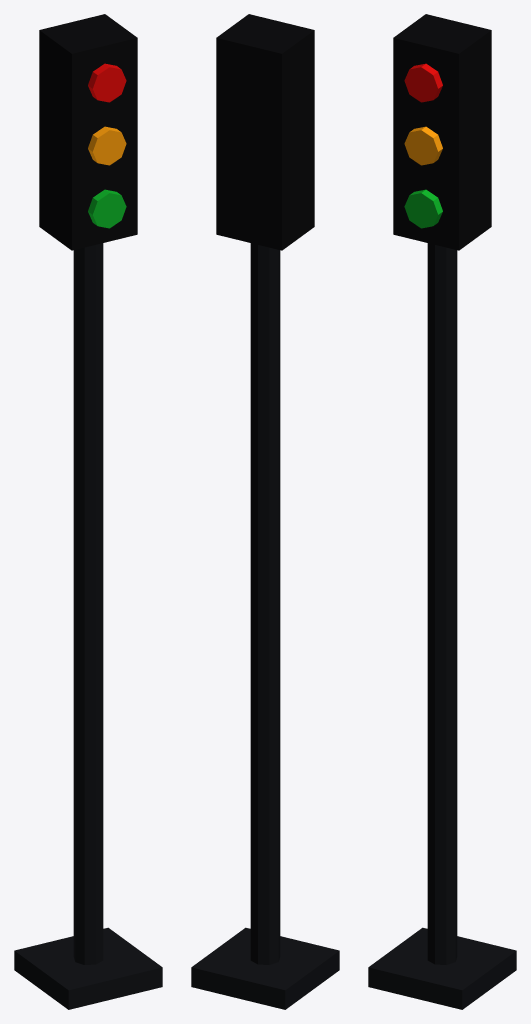
File: traffic_light.obj
3 views of the same model, side by side, from view 1: azimuth 30°, elevation 25°; view 2: azimuth 150°, elevation 25°; view 3: azimuth 330°, elevation 25° (orthographic).
Parts seen in each view (by area): view 1: traffic_light; view 2: traffic_light; view 3: traffic_light.
Part boxes in pixels (box(x1,y1,x2,y2)): traffic_light: box(14, 14, 162, 1009); traffic_light: box(191, 14, 339, 1009); traffic_light: box(368, 14, 516, 1009).
Size of the model in its own units: 0.5 by 4.8 by 0.5.
